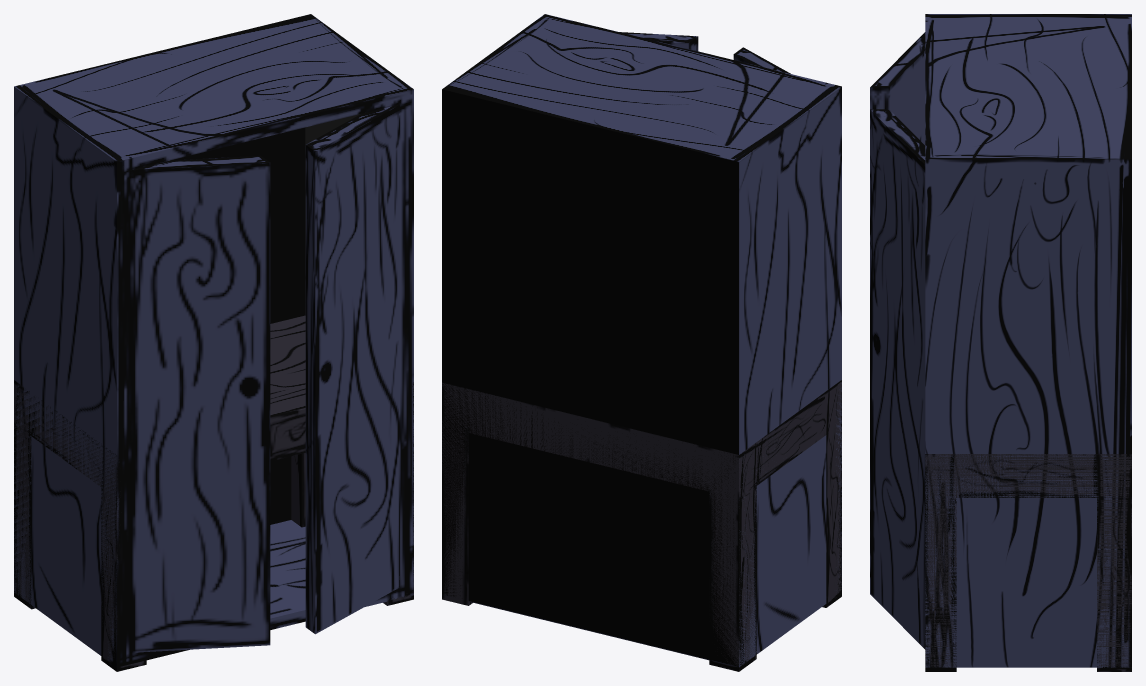
The picture shows the model from 3 angles, left to right: view 1: azimuth 30°, elevation 25°; view 2: azimuth 150°, elevation 25°; view 3: azimuth 270°, elevation 25°; orthographic projection.
Parts seen in each view (by area): view 1: SM_Wardrobe, SM_Table; view 2: SM_Wardrobe, SM_Table; view 3: SM_Wardrobe, SM_Table.
Boxes of the visible parts, bbox=[...] form: SM_Wardrobe: bbox=[14, 14, 413, 667]; SM_Table: bbox=[14, 315, 413, 671]; SM_Wardrobe: bbox=[442, 14, 841, 667]; SM_Table: bbox=[442, 380, 841, 671]; SM_Wardrobe: bbox=[870, 14, 1131, 667]; SM_Table: bbox=[925, 454, 1131, 671].
Size of the model in its own units: 2 by 3.28 by 1.52.
Materials: 1 (1 with a texture image).
